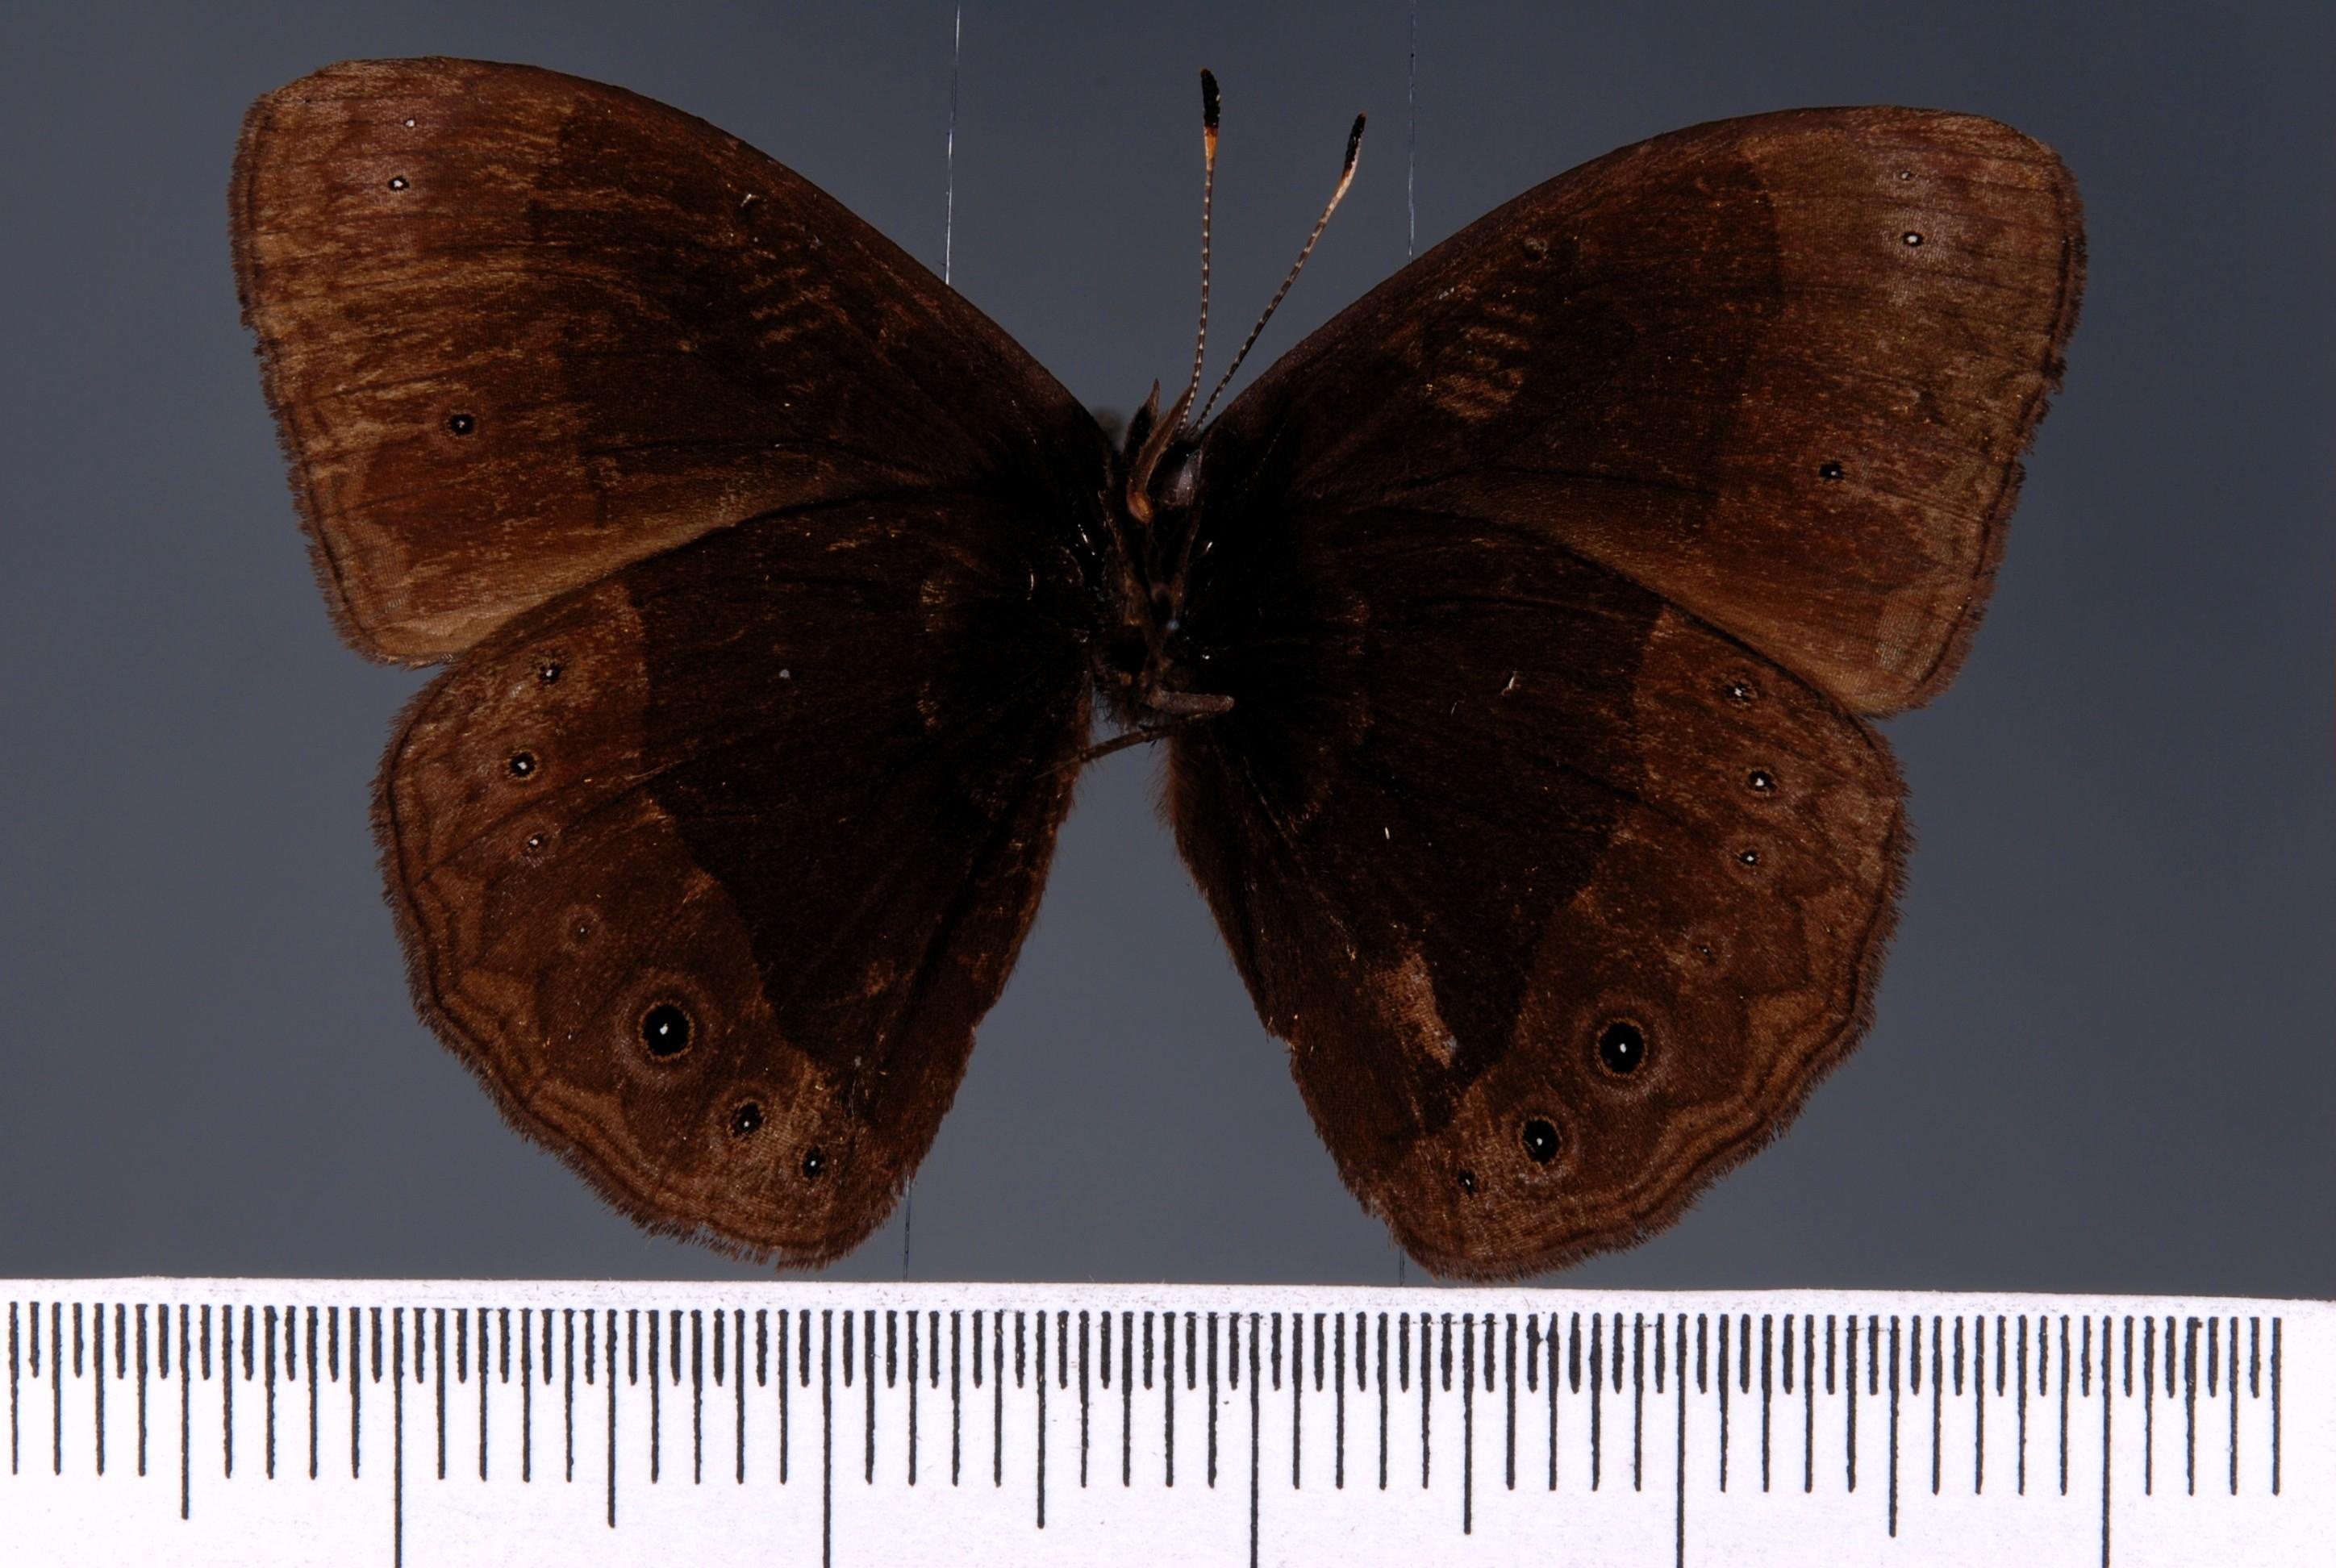spot: (1769, 418, 1893, 544), (1561, 990, 1683, 1113), (402, 367, 521, 487), (605, 971, 723, 1090), (1720, 735, 1808, 822), (483, 716, 570, 803), (513, 640, 591, 719), (369, 86, 444, 161), (500, 798, 574, 871), (542, 885, 616, 959), (1503, 1102, 1577, 1174), (714, 1085, 786, 1158), (1720, 817, 1792, 891), (1669, 920, 1743, 992), (362, 149, 430, 219), (1879, 205, 1948, 273), (782, 1132, 849, 1197), (1711, 660, 1778, 724), (1878, 145, 1942, 210), (1437, 1150, 1501, 1214)
